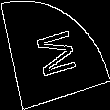M_W: (30, 27, 80, 83)
